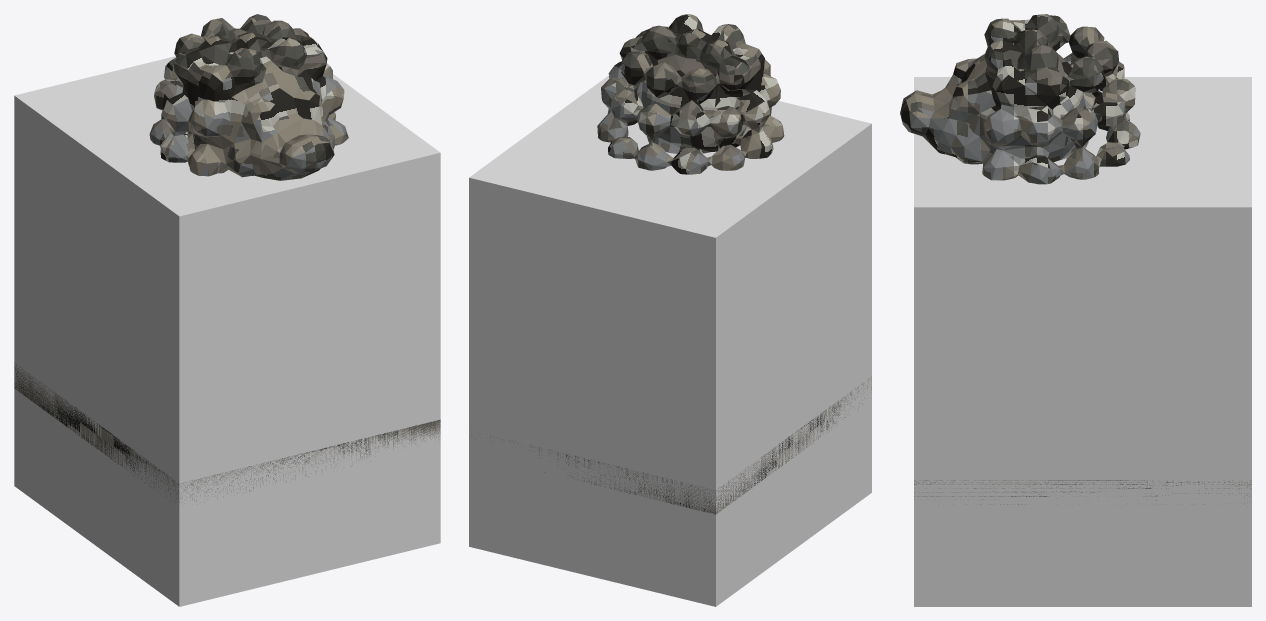
Rendered from JP_Prop_Komainu_A.glb.
3 views of the same model, side by side, from view 1: azimuth 30°, elevation 25°; view 2: azimuth 150°, elevation 25°; view 3: azimuth 270°, elevation 25° (orthographic). The views are drawn at different scales.
Visible parts, largest first — view 1: COL_JP_Prop_Komainu_A, JP_Prop_Komainu_A; view 2: COL_JP_Prop_Komainu_A, JP_Prop_Komainu_A; view 3: COL_JP_Prop_Komainu_A, JP_Prop_Komainu_A.
Boxes of the visible parts, x1,y1,x2,y2 form: COL_JP_Prop_Komainu_A: (14,56,440,606); JP_Prop_Komainu_A: (14,14,440,505); COL_JP_Prop_Komainu_A: (469,75,871,606); JP_Prop_Komainu_A: (478,14,871,514); COL_JP_Prop_Komainu_A: (914,77,1251,606); JP_Prop_Komainu_A: (900,14,1251,504).
Bounding box in the file's own units: 0.84 × 1.54 × 0.9575.
2 materials, 2 textured.
